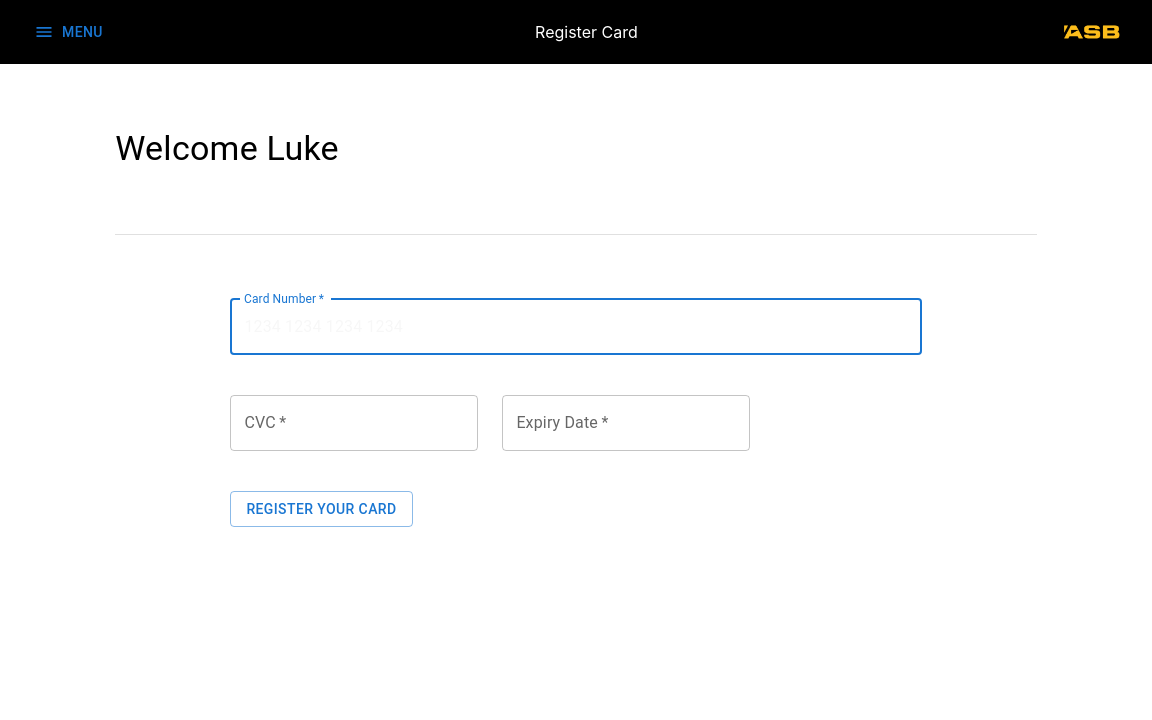
Test case: Menu › opens when the menu button is clicked
Click the button "Menu".
click(70, 32)  # box [30,14,111,50]
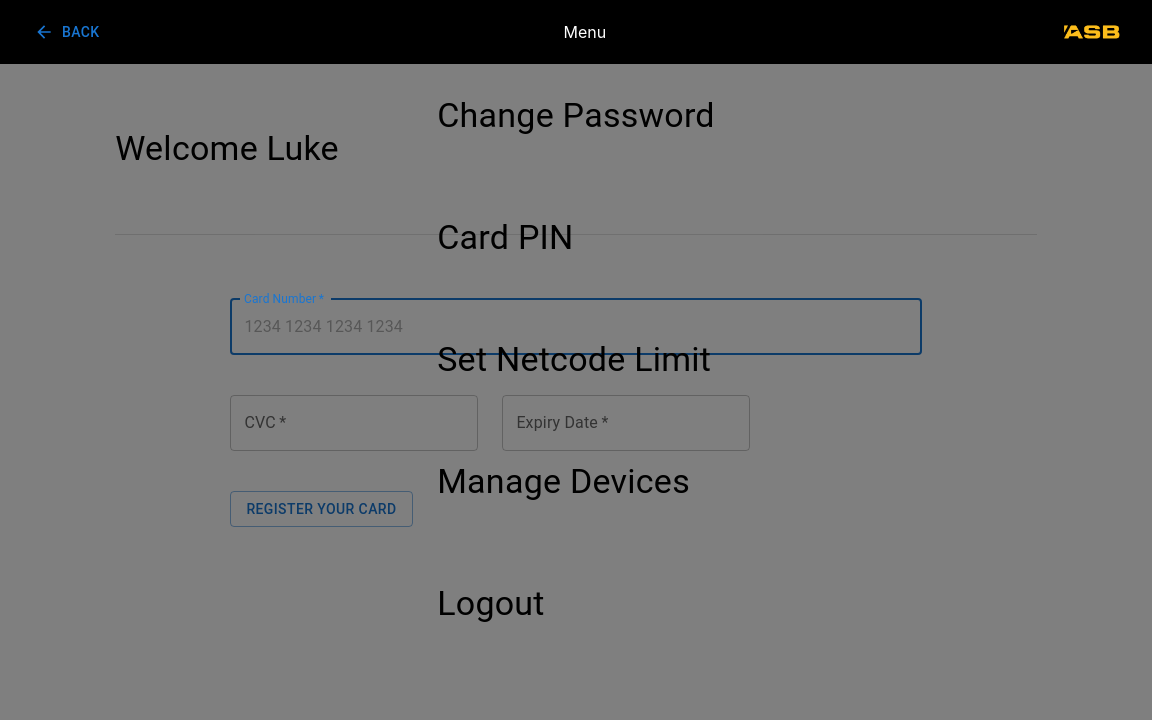
Check: the heading "Change Password" is shown, box [437,95,715,137]
